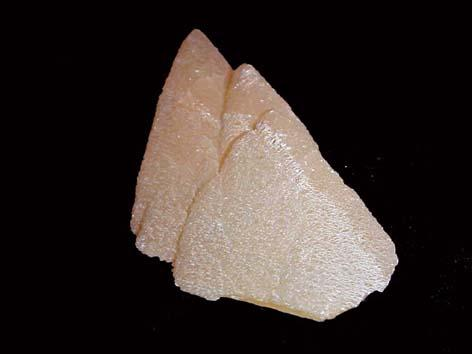calcite: (131, 30, 399, 322)
